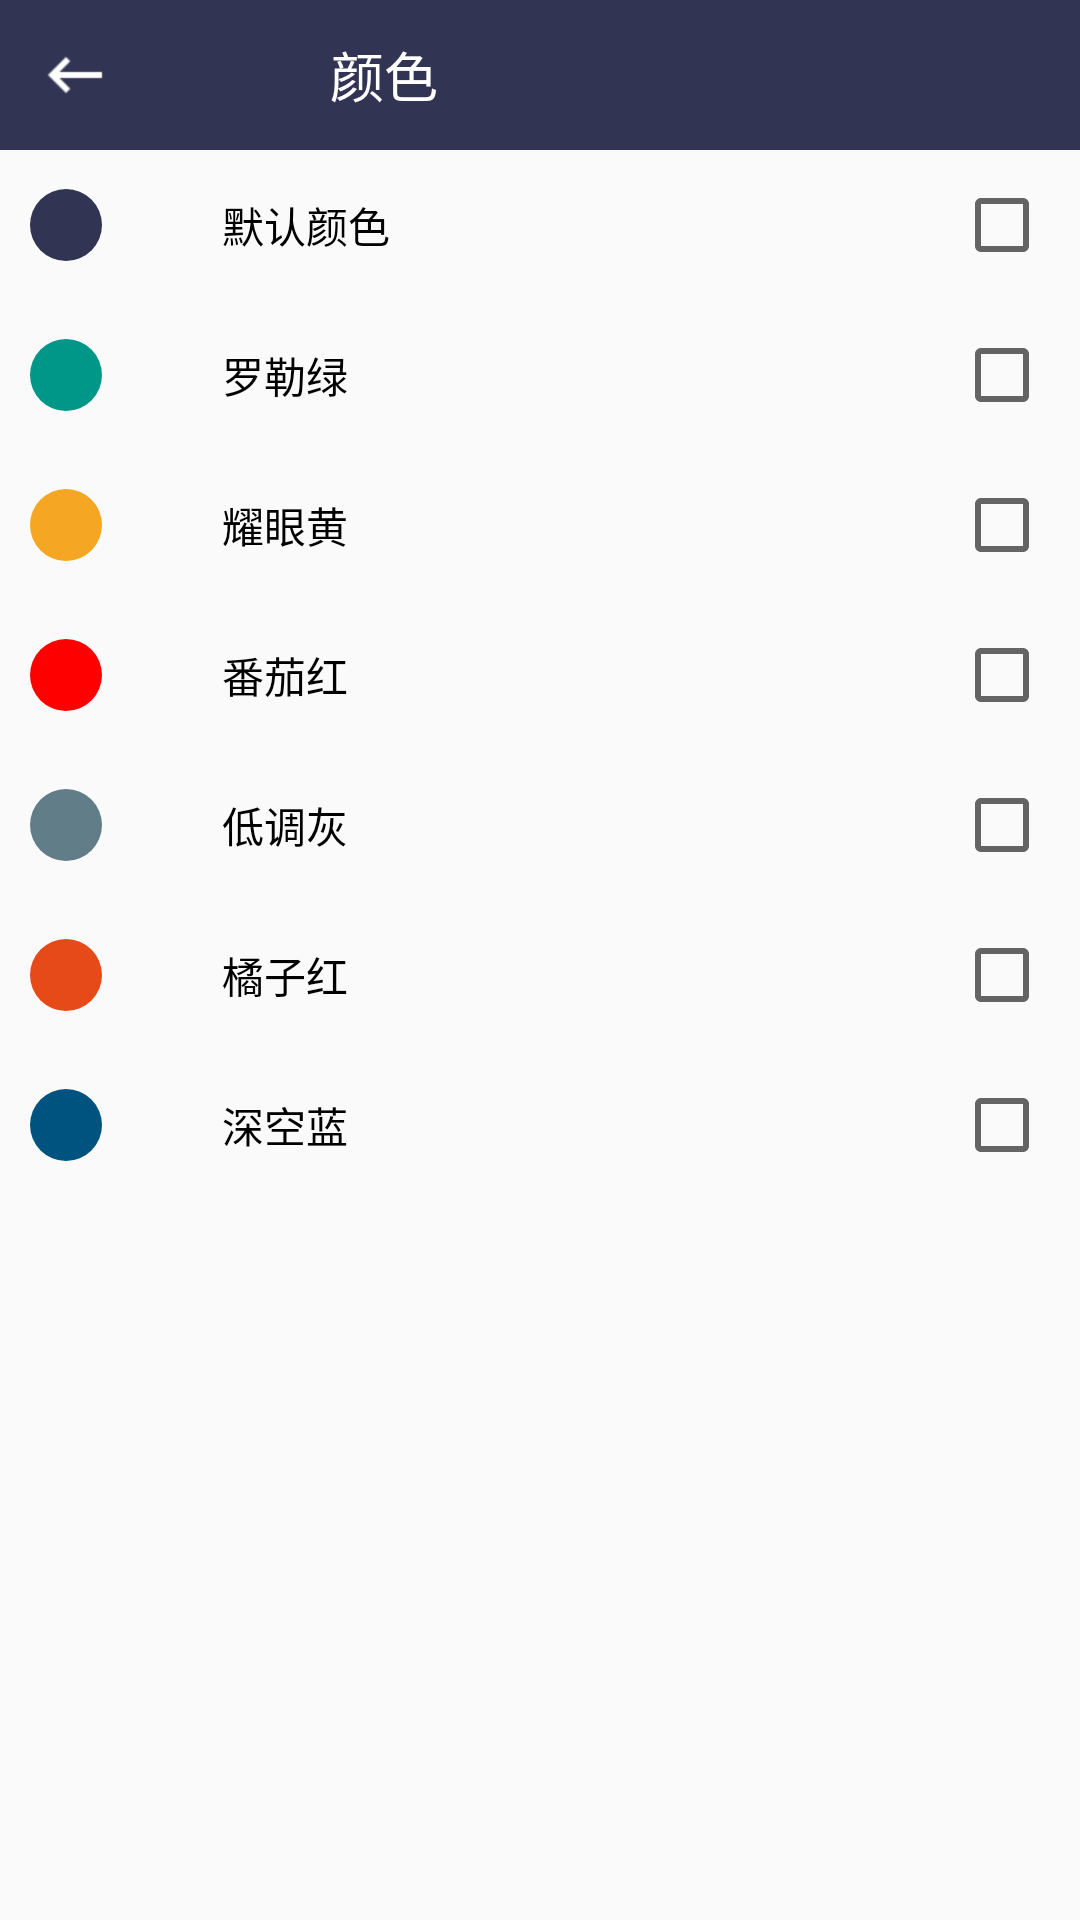

Icons on this 1080 × 1920 Android screen, each with the point to tap as (x=x, y=y):
keyboard backspace: (x=75, y=75)
